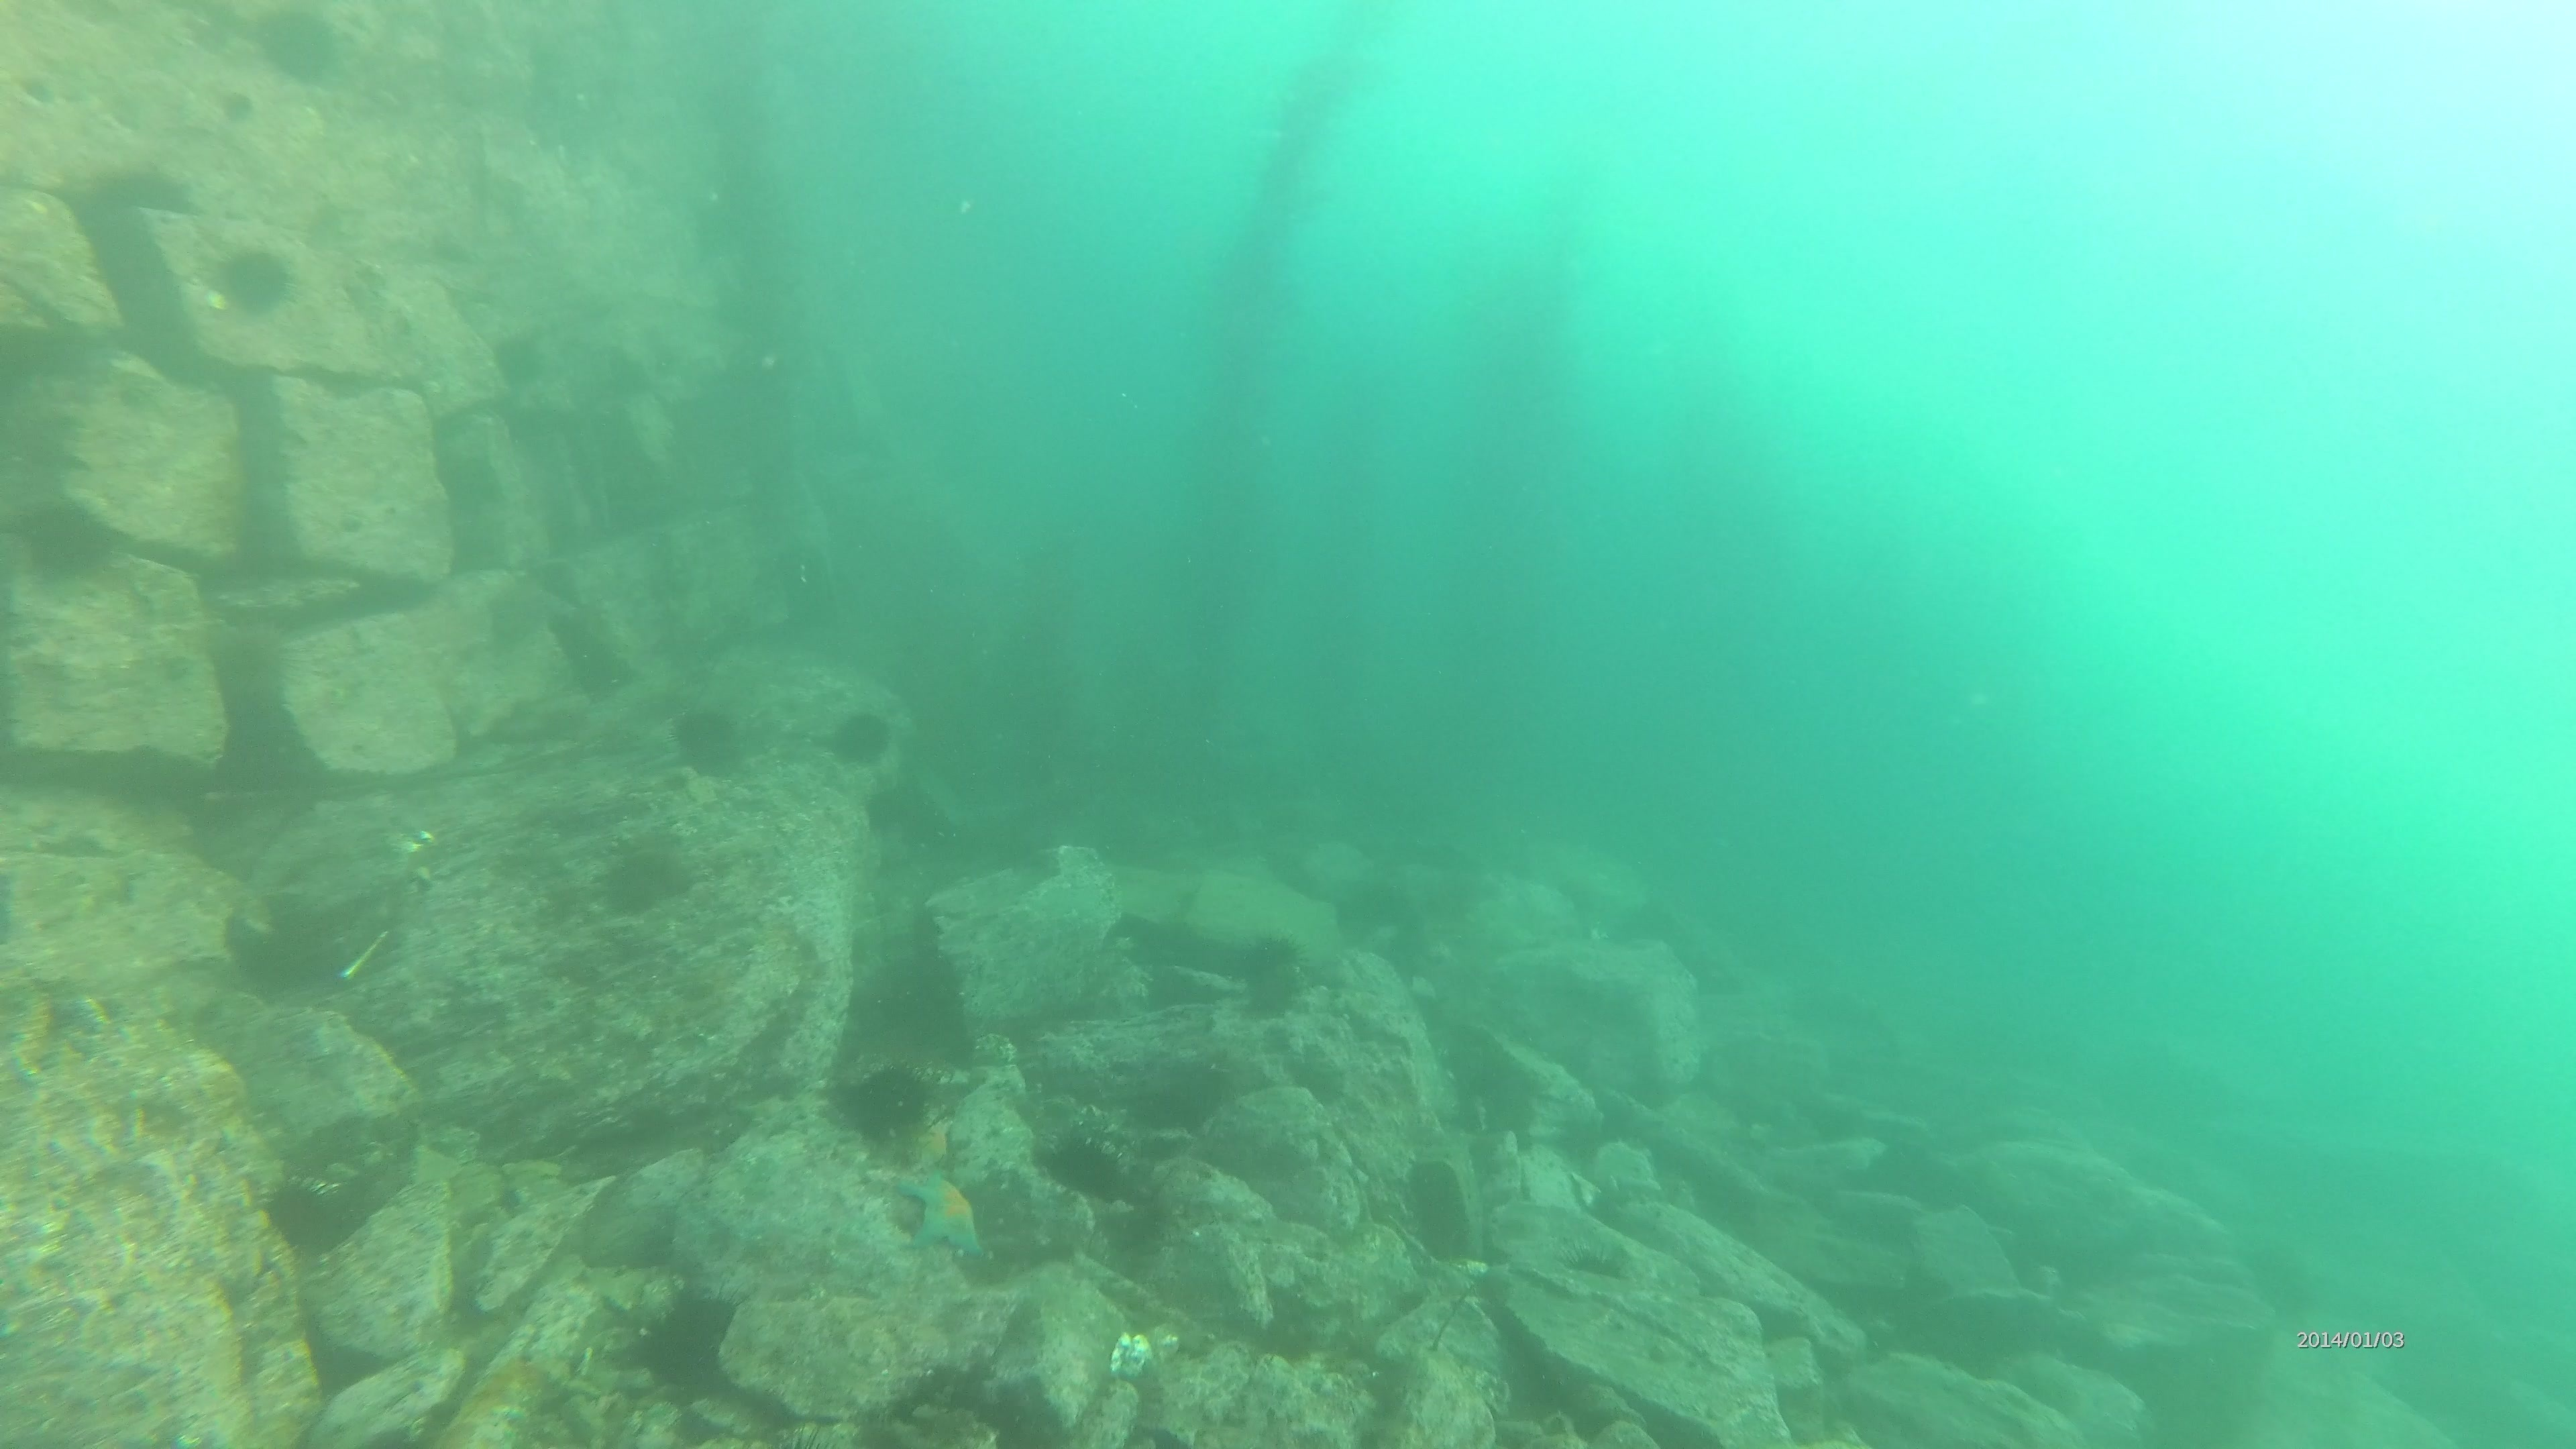echinus: (828, 1054, 943, 1154), (11, 492, 122, 591), (591, 830, 697, 922), (244, 5, 350, 90), (1226, 929, 1316, 1024), (205, 237, 303, 326), (83, 154, 200, 226), (1035, 1122, 1132, 1207), (663, 695, 754, 782), (2238, 1235, 2325, 1323), (858, 773, 950, 855), (821, 701, 899, 773)
starfish: (892, 1161, 996, 1265)
